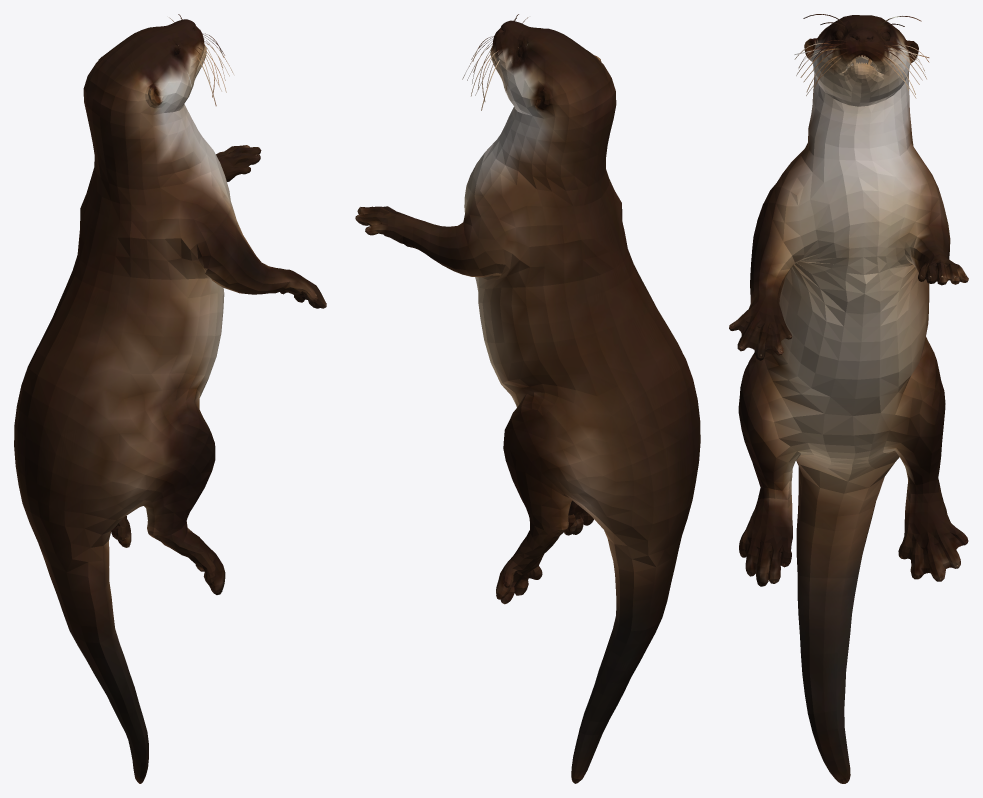
File: The_male_asian_small_clawed_otter_swi_27a9b42ca295.mesh.glb
The picture shows the model from 3 angles, left to right: view 1: azimuth 30°, elevation 25°; view 2: azimuth 150°, elevation 25°; view 3: azimuth 270°, elevation 25°; orthographic projection. The views are drawn at different scales.
Parts seen in each view (by area): view 1: root; view 2: root; view 3: root.
Boxes of the visible parts, x1,y1,x2,y2 form: root: (14, 14, 326, 783); root: (355, 14, 700, 783); root: (729, 14, 968, 783).
Bounding box in the file's own units: 0.2502 × 0.6277 × 0.1744.
1 material, 1 textured.
